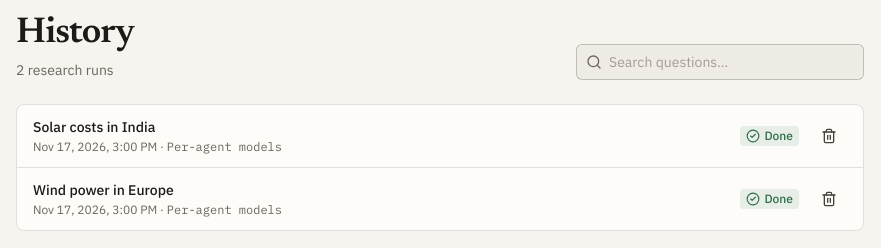
Test case: HistoryPage › searches loaded runs
The width and height of the screenshot is (881, 248).
Check: the text "2 research runs" is shown, box [16,61,114,79]
Type "wind" into the search field named "Search loaded runs" at {"x": 720, "y": 62}, box [576,44,864,80]
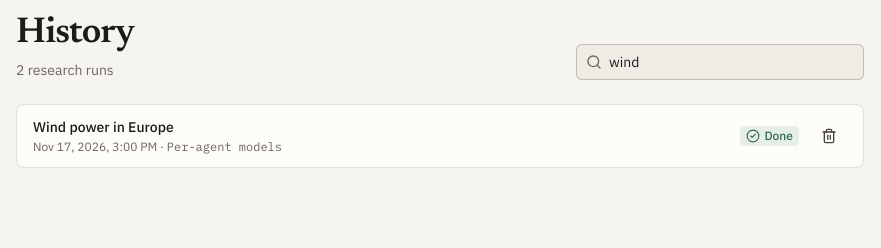
Check: the text "Wind power in Europe" is shown, box [33,118,174,136]
Check: the link "Solar costs in India" is gone
